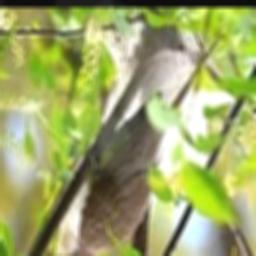Cuckoo: (43, 41, 217, 256)
